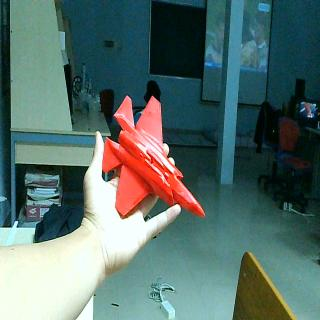Jet: (101, 94, 206, 220)
